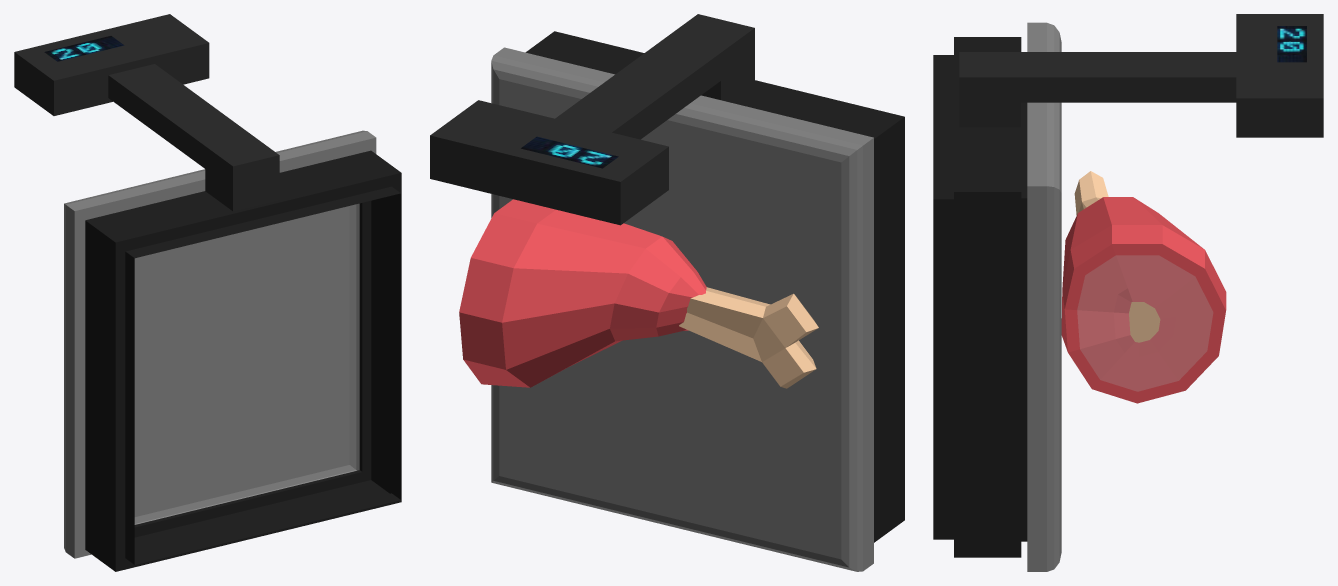
Rendered from weigher.fbx.
The picture shows the model from 3 angles, left to right: view 1: azimuth 30°, elevation 25°; view 2: azimuth 150°, elevation 25°; view 3: azimuth 270°, elevation 25°; orthographic projection. The views are drawn at different scales.
Parts seen in each view (by area): view 1: weigher; view 2: weigher; view 3: weigher.
Boxes of the visible parts, bbox=[...] form: weigher: bbox=[14, 14, 401, 571]; weigher: bbox=[430, 14, 904, 571]; weigher: bbox=[933, 14, 1323, 571].
Bounding box in the file's own units: 179 × 222 × 181.
